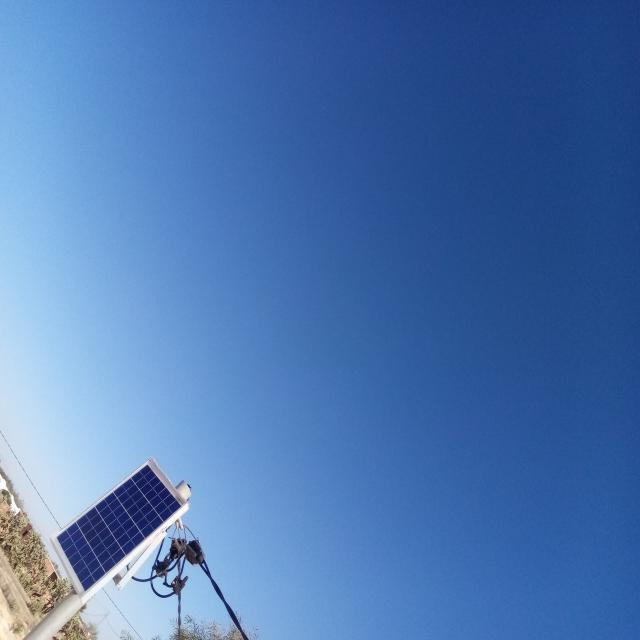no faulty: (50, 457, 189, 600)
